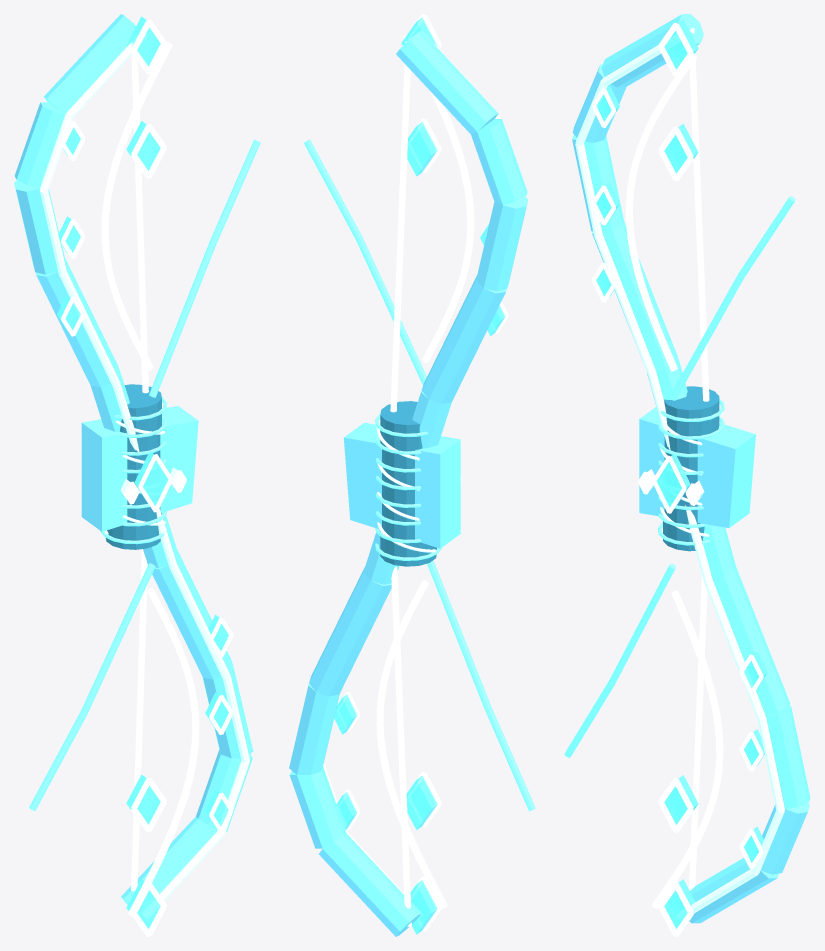
File: bildmaster_bow_hologram_v2.glb
The picture shows the model from 3 angles, left to right: view 1: azimuth 30°, elevation 25°; view 2: azimuth 150°, elevation 25°; view 3: azimuth 330°, elevation 25°; orthographic projection.
Visible parts, largest first — view 1: bow_metal, bow_white, bow_light, bow_aqua, bow_glass, bow_core; view 2: bow_metal, bow_white, bow_aqua, bow_core, bow_glass, bow_light; view 3: bow_metal, bow_white, bow_light, bow_glass, bow_aqua, bow_core.
Boxes of the visible parts, x1,y1,x2,y2 form: bow_metal: (14,14,253,913); bow_white: (61,19,233,936); bow_light: (39,35,249,918); bow_aqua: (29,139,260,810); bow_glass: (57,16,228,928); bow_core: (105,384,161,549); bow_metal: (289,31,528,936); bow_white: (337,14,508,931); bow_aqua: (304,140,535,811); bow_core: (380,401,436,566); bow_glass: (334,17,505,934); bow_light: (323,32,500,918); bow_metal: (572,14,810,923); bow_white: (592,22,763,936); bow_light: (575,34,784,919); bow_glass: (596,19,767,928); bow_aqua: (564,196,795,757); bow_core: (663,386,719,551).
Bounding box in the file's own units: 0.4037 × 1.5 × 0.1209.
